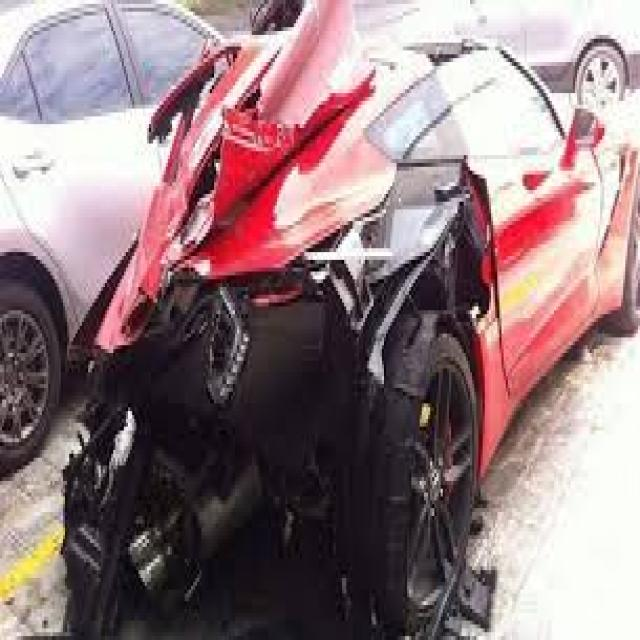severe: (87, 33, 479, 640)
